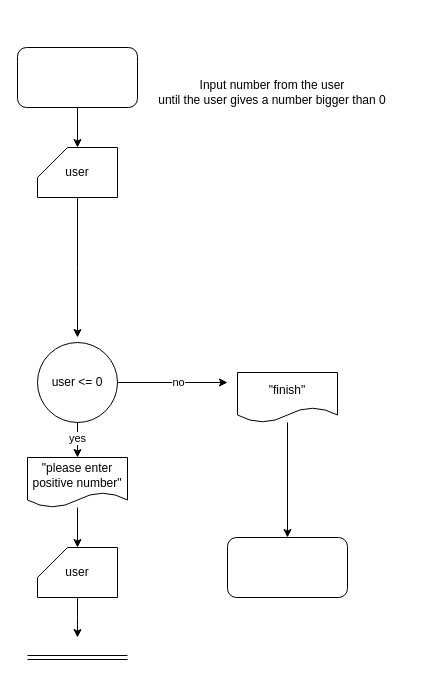
The diagram is 445 pixels wide and 677 high, and some of its shapes have lost their labels. The shapes that lost their labels are listed below. From the top down, each one's centre as x and y in pixels, then its label:
At point (77, 77): "START".
At point (287, 567): "STOP".
